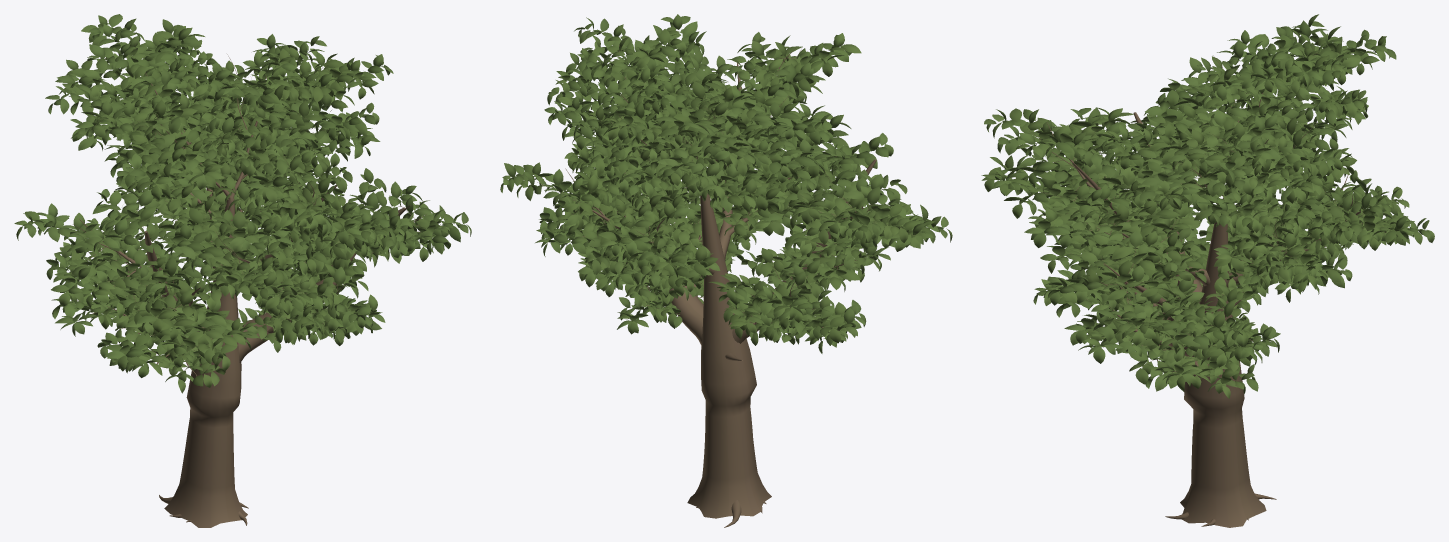
Rendered from corealm_oak_2.glb.
The picture shows the model from 3 angles, left to right: view 1: azimuth 30°, elevation 25°; view 2: azimuth 150°, elevation 25°; view 3: azimuth 270°, elevation 25°; orthographic projection. The views are drawn at different scales.
Parts seen in each view (by area): view 1: corealm_oak_2; view 2: corealm_oak_2; view 3: corealm_oak_2.
Part boxes in pixels (x1=…): corealm_oak_2: x1=14, y1=14, x2=471, y2=527; corealm_oak_2: x1=500, y1=14, x2=952, y2=527; corealm_oak_2: x1=981, y1=14, x2=1434, y2=527.
Size of the model in its own units: 7.47 by 8.56 by 7.4.
